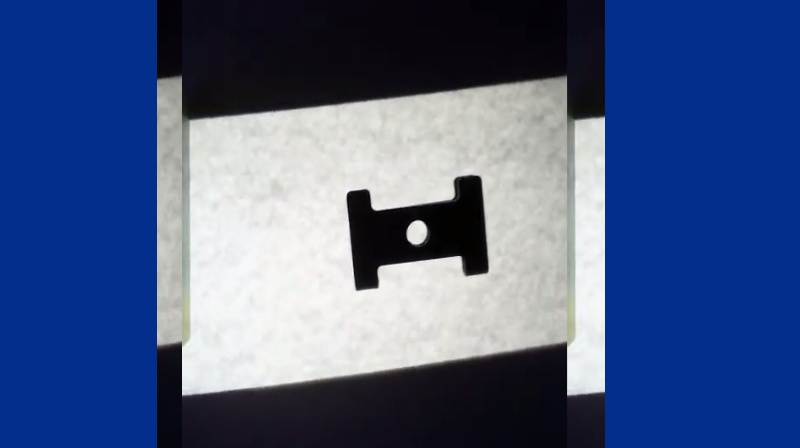O002: (337, 170, 492, 296)
